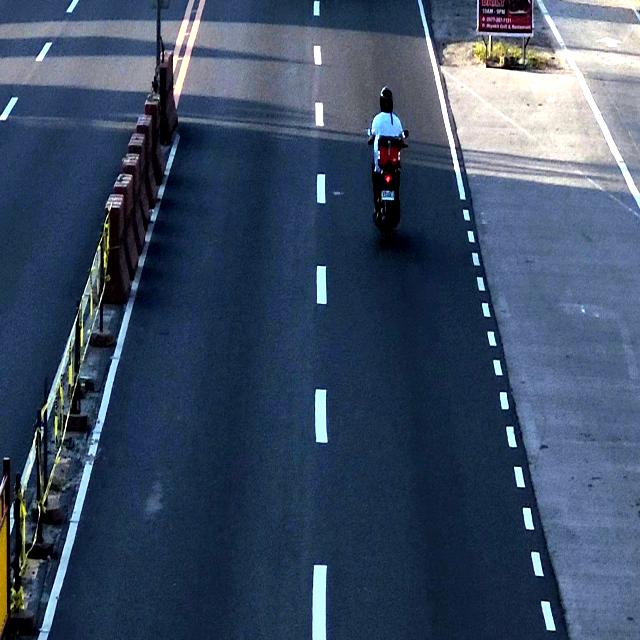License-Plate: (380, 187, 395, 202)
Motorcycle: (367, 89, 404, 243)
